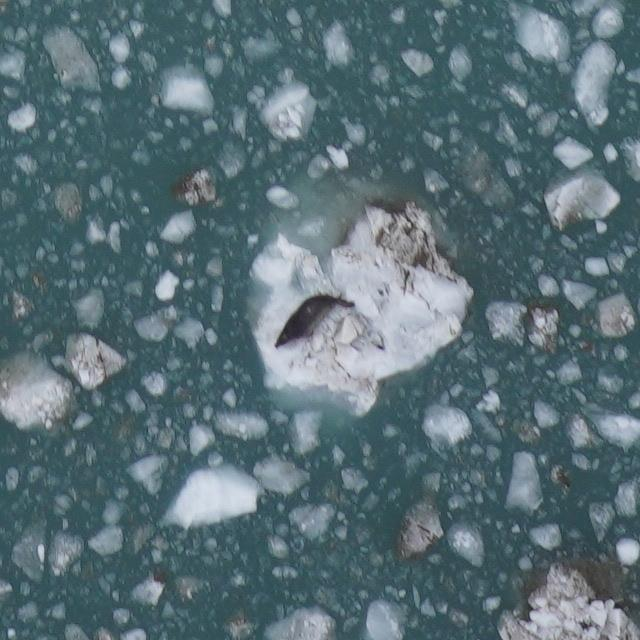seal: (270, 291, 358, 353)
